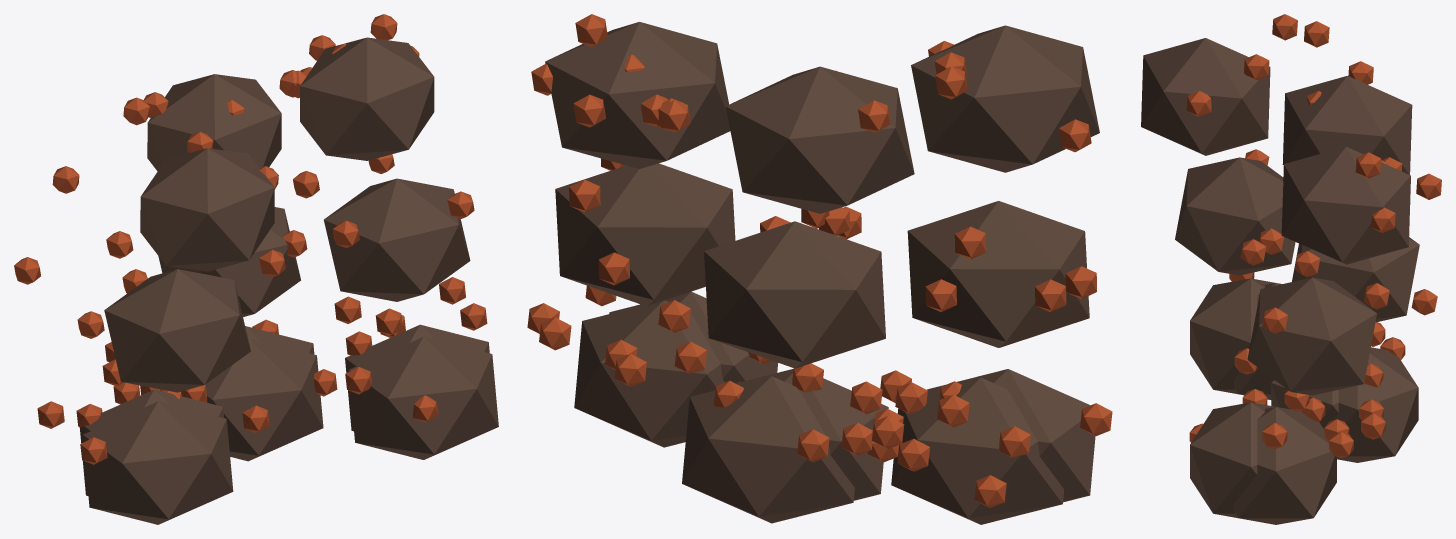
File: Ore_Iron.fbx
3 renders of one model, left to right at view 1: azimuth 30°, elevation 25°; view 2: azimuth 150°, elevation 25°; view 3: azimuth 270°, elevation 25°, orthographic. The views are drawn at different scales.
Parts seen in each view (by area): view 1: Ore_Iron__Stack, Ore_Iron; view 2: Ore_Iron__Stack, Ore_Iron; view 3: Ore_Iron__Stack, Ore_Iron.
Boxes of the visible parts, left/top/right/bottom form: Ore_Iron__Stack: left=14, top=14, right=489, bottom=495; Ore_Iron: left=80, top=303, right=498, bottom=524; Ore_Iron__Stack: left=527, top=14, right=1099, bottom=524; Ore_Iron: left=585, top=285, right=1112, bottom=502; Ore_Iron__Stack: left=1141, top=14, right=1441, bottom=524; Ore_Iron: left=1189, top=272, right=1383, bottom=517.
Bounding box in the file's own units: 0.1519 × 0.1292 × 0.0924.
